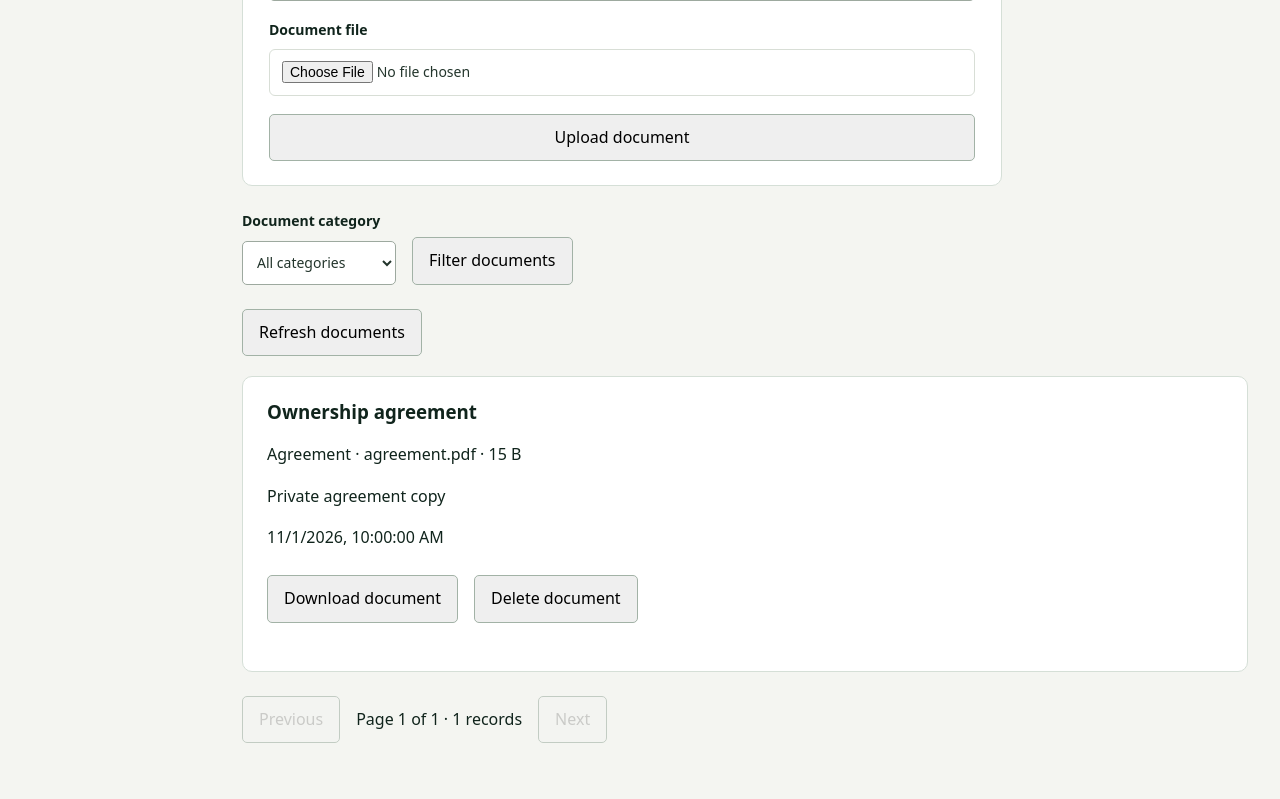
clears an expired session when a private download is rejected
(page scrolled)
Click the button "Download document": click(362, 599) [267,575,458,623]
(page scrolled)
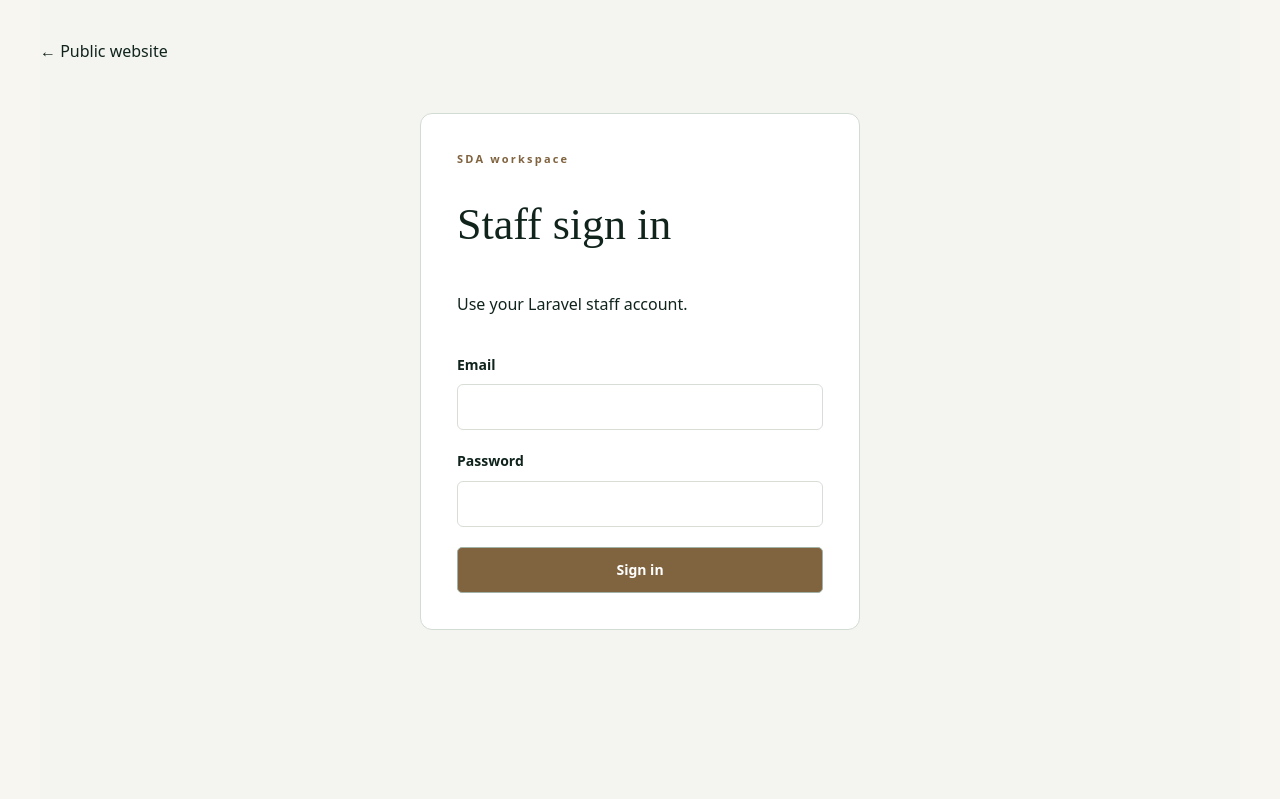
Result: the heading "Staff sign in" is shown at [457,200,671,249]
Result: the heading "Ownership agreement" is gone
